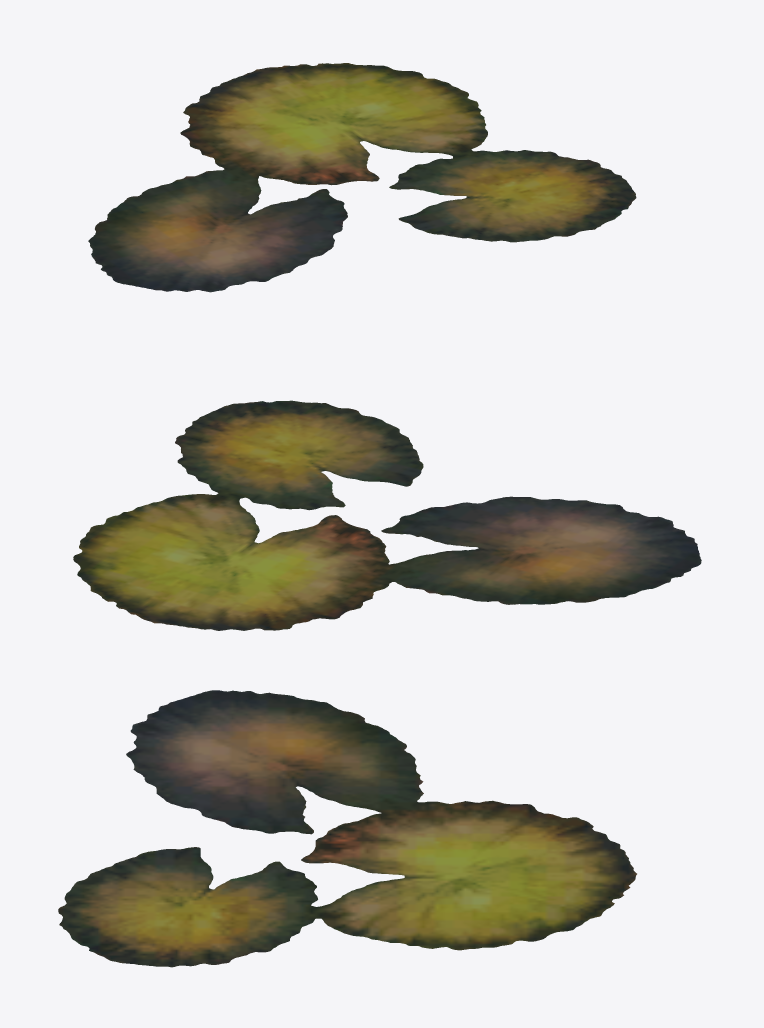
Rendered from frst_fltg_lillypad_cluster_sm_l1.fbx.
3 renders of one model, top to bottom at view 1: azimuth 30°, elevation 25°; view 2: azimuth 150°, elevation 25°; view 3: azimuth 270°, elevation 25°, orthographic. The views are drawn at different scales.
Parts seen in each view (by area): view 1: mesh_node; view 2: mesh_node; view 3: mesh_node.
Part boxes in pixels (<box>): mesh_node: <box>88,63,636,292</box>; mesh_node: <box>73,400,701,630</box>; mesh_node: <box>58,690,636,967</box>.
Size of the model in its own units: 1.37 by 2.74e-16 by 1.24.
1 material, 1 textured.
